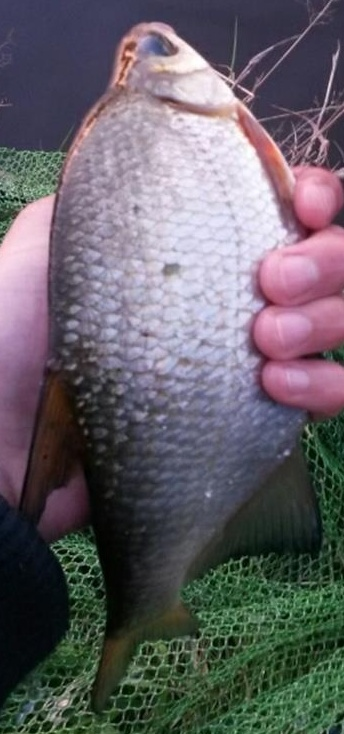Rutilus rutilus: (20, 20, 324, 714)
